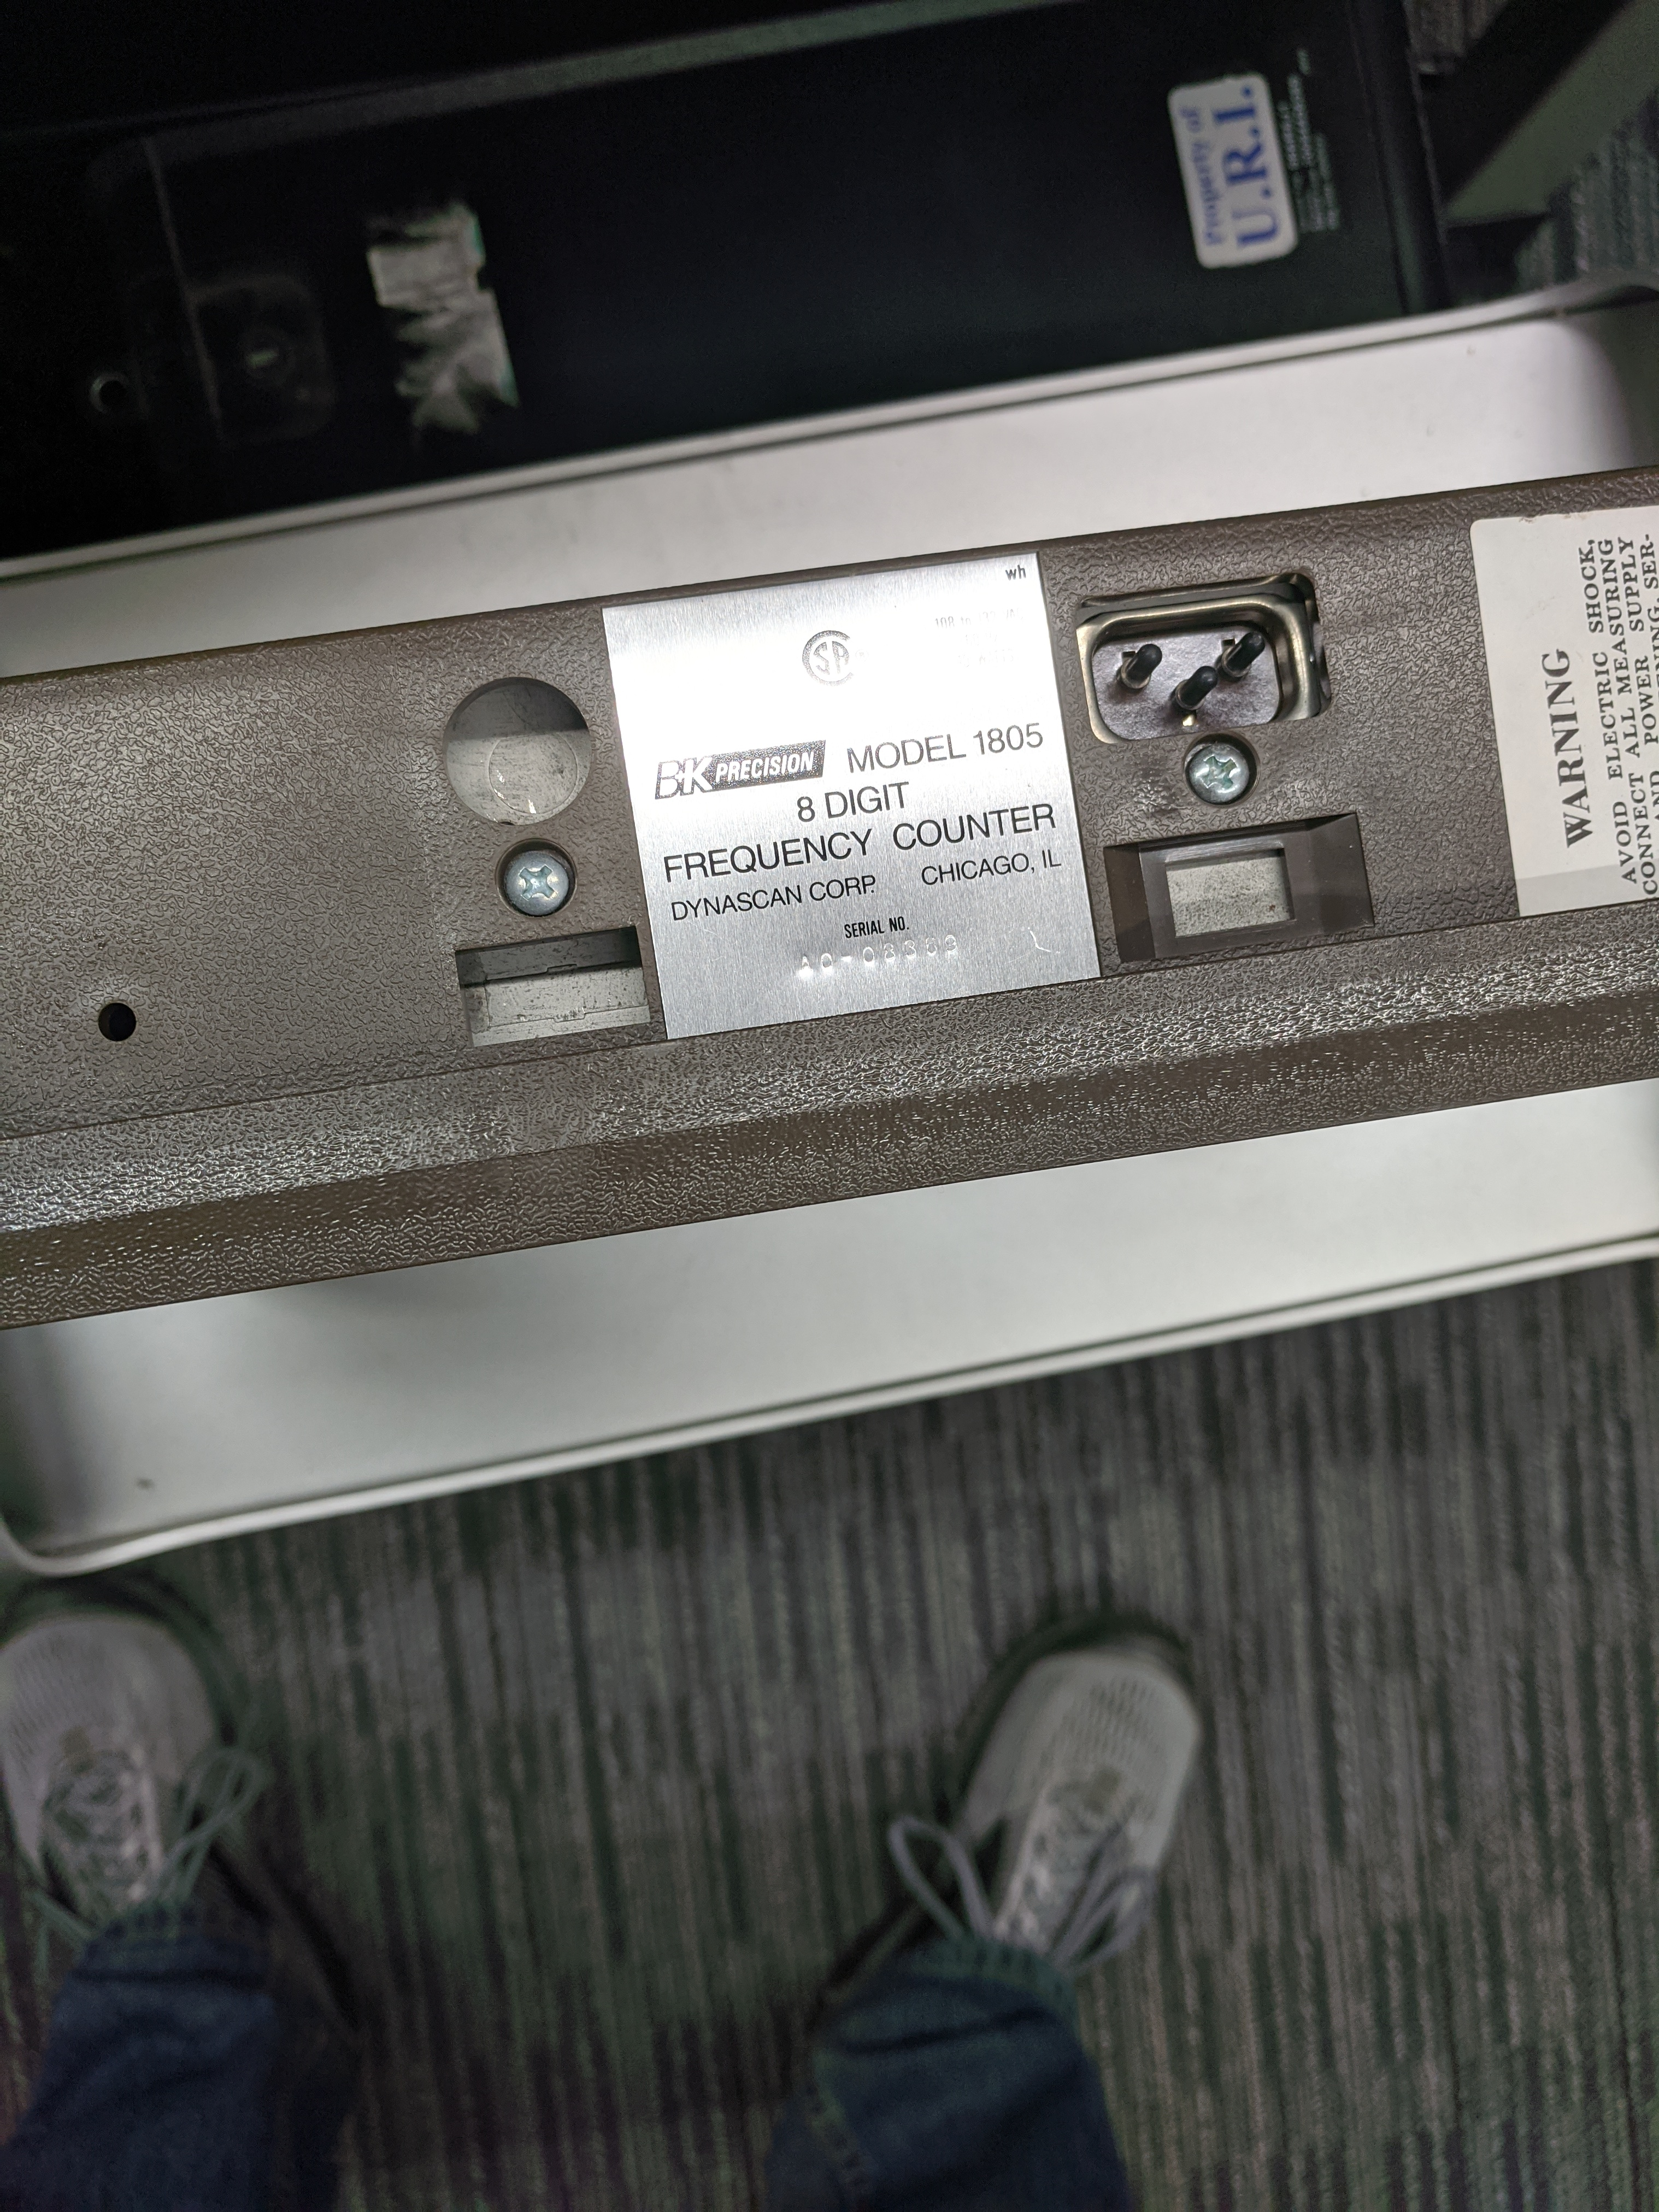cross_recessed_screw: (1183, 730, 1270, 808)
